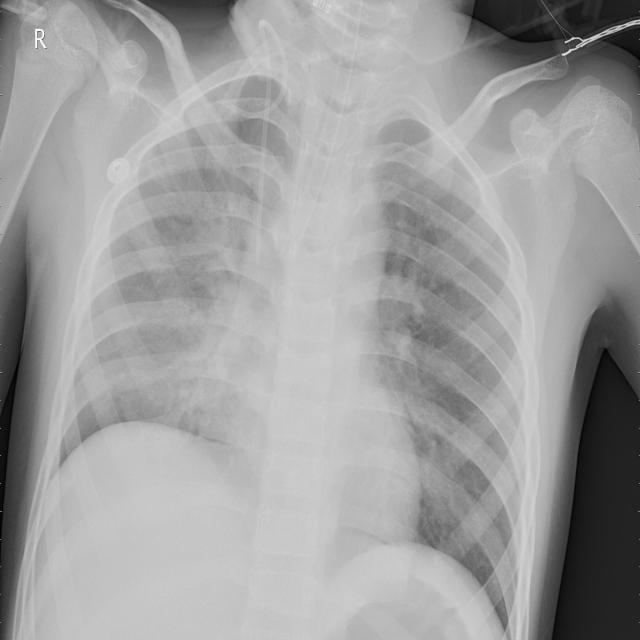high-pneumonia: (169, 163, 270, 434)
low-pneumonia: (414, 133, 528, 325)
